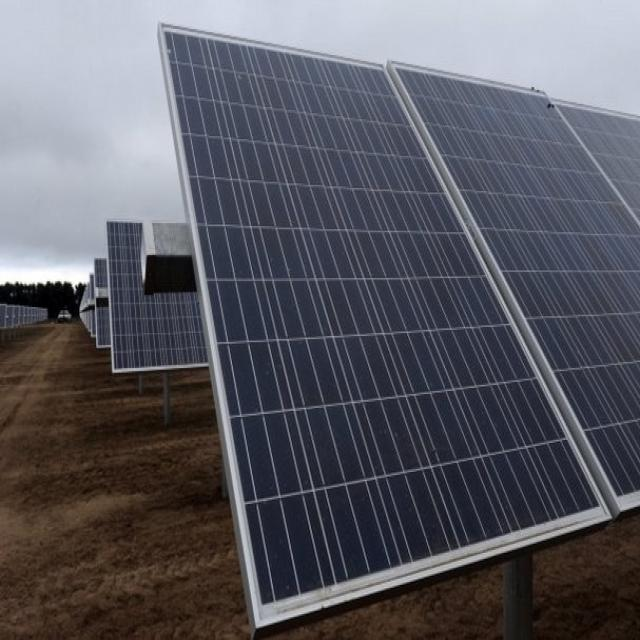clean-solar-panel: (160, 28, 640, 627)
